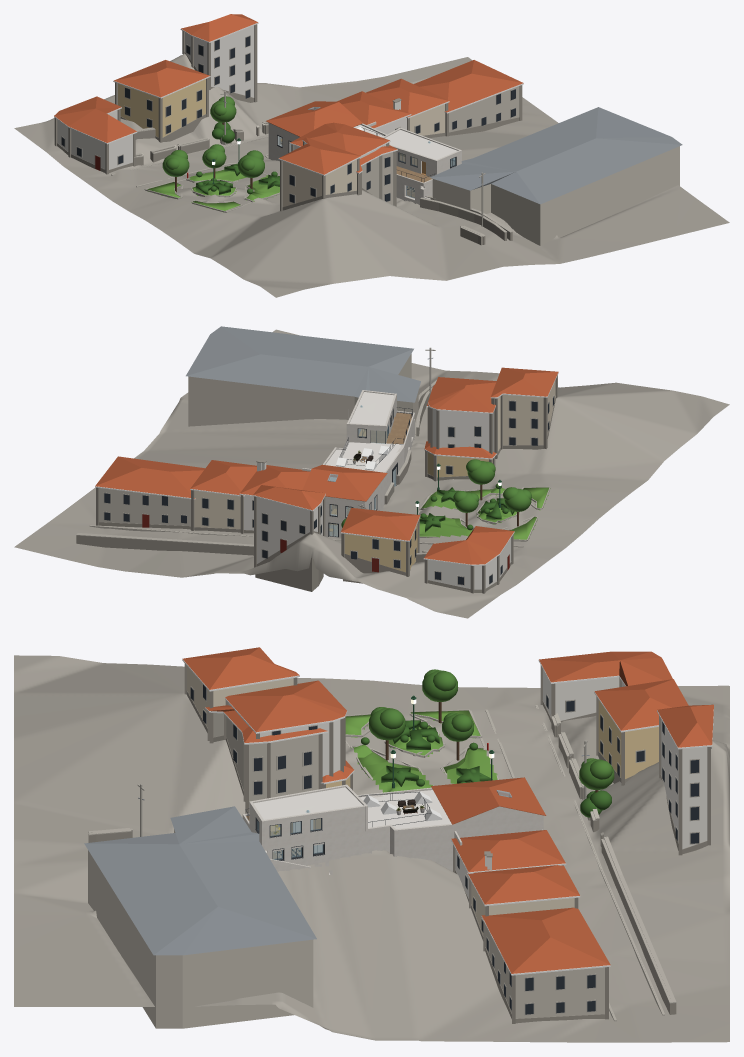
Rendered from sede-revit.glb.
3 renders of one model, top to bottom at view 1: azimuth 30°, elevation 25°; view 2: azimuth 150°, elevation 25°; view 3: azimuth 270°, elevation 25°, orthographic. The views are drawn at different scales.
Parts seen in each view (by area): view 1: Terreno (levantamento ETRS89), Telhados · telha, Telhados · chapa, Paredes · reboco_cinza, Paredes · reboco_branco, Paredes · granito, Paredes · reboco_creme, Paredes · reboco_ocre, Vãos · janela, Envolvente · Árvores e arbustos · copa, Envolvente · Muros e lancis · granito, TETO · edificio · telha (+10 smaller); view 2: Terreno (levantamento ETRS89), Telhados · telha, Telhados · chapa, Paredes · reboco_cinza, Paredes · granito, Paredes · reboco_branco, Paredes · reboco_creme, Paredes · reboco_ocre, Envolvente · Muros e lancis · granito, Vãos · janela, TETO · edificio · telha, Vãos · granito_claro (+11 smaller); view 3: Terreno (levantamento ETRS89), Telhados · telha, Paredes · reboco_cinza, Telhados · chapa, P1 · edificio · parede, Paredes · reboco_branco, Paredes · granito, Envolvente · Muros e lancis · granito_claro, Envolvente · Árvores e arbustos · copa, Vãos · janela, TETO · edificio · telha, Paredes · reboco_creme (+14 smaller).
Part boxes in pixels (bbox=[...]): Terreno (levantamento ETRS89): bbox=[14, 53, 729, 297]; Telhados · telha: bbox=[54, 14, 523, 174]; Telhados · chapa: bbox=[429, 107, 682, 204]; Paredes · reboco_cinza: bbox=[361, 86, 679, 245]; Paredes · reboco_branco: bbox=[57, 25, 406, 169]; Paredes · granito: bbox=[54, 24, 522, 211]; Paredes · reboco_creme: bbox=[283, 104, 445, 206]; Paredes · reboco_ocre: bbox=[118, 79, 205, 137]; Vãos · janela: bbox=[61, 36, 515, 202]; Envolvente · Árvores e arbustos · copa: bbox=[162, 96, 264, 177]; Envolvente · Muros e lancis · granito: bbox=[134, 123, 512, 245]; TETO · edificio · telha: bbox=[266, 101, 362, 136]; Terreno (levantamento ETRS89): bbox=[14, 329, 729, 618]; Telhados · telha: bbox=[95, 367, 558, 564]; Telhados · chapa: bbox=[186, 326, 420, 402]; Paredes · reboco_cinza: bbox=[99, 353, 418, 525]; Paredes · granito: bbox=[96, 375, 557, 593]; Paredes · reboco_branco: bbox=[244, 409, 511, 589]; Paredes · reboco_creme: bbox=[194, 380, 555, 529]; Paredes · reboco_ocre: bbox=[344, 452, 492, 572]; Envolvente · Muros e lancis · granito: bbox=[76, 386, 433, 562]; Vãos · janela: bbox=[104, 396, 554, 584]; TETO · edificio · telha: bbox=[302, 464, 387, 501]; Vãos · granito_claro: bbox=[103, 395, 554, 585]; Terreno (levantamento ETRS89): bbox=[14, 655, 729, 1042]; Telhados · telha: bbox=[182, 647, 713, 973]; Paredes · reboco_cinza: bbox=[88, 713, 604, 1028]; Telhados · chapa: bbox=[84, 806, 316, 955]; P1 · edificio · parede: bbox=[264, 805, 541, 857]; Paredes · reboco_branco: bbox=[228, 669, 707, 898]; Paredes · granito: bbox=[184, 663, 710, 1023]; Envolvente · Muros e lancis · granito_claro: bbox=[88, 705, 676, 1021]; Envolvente · Árvores e arbustos · copa: bbox=[369, 669, 614, 789]; Vãos · janela: bbox=[190, 684, 711, 1014]; TETO · edificio · telha: bbox=[431, 777, 546, 824]; Paredes · reboco_creme: bbox=[187, 666, 574, 935].
Bounding box in the file's own units: 80.69 × 21.26 × 80.
Materials: 69 (17 with a texture image).
